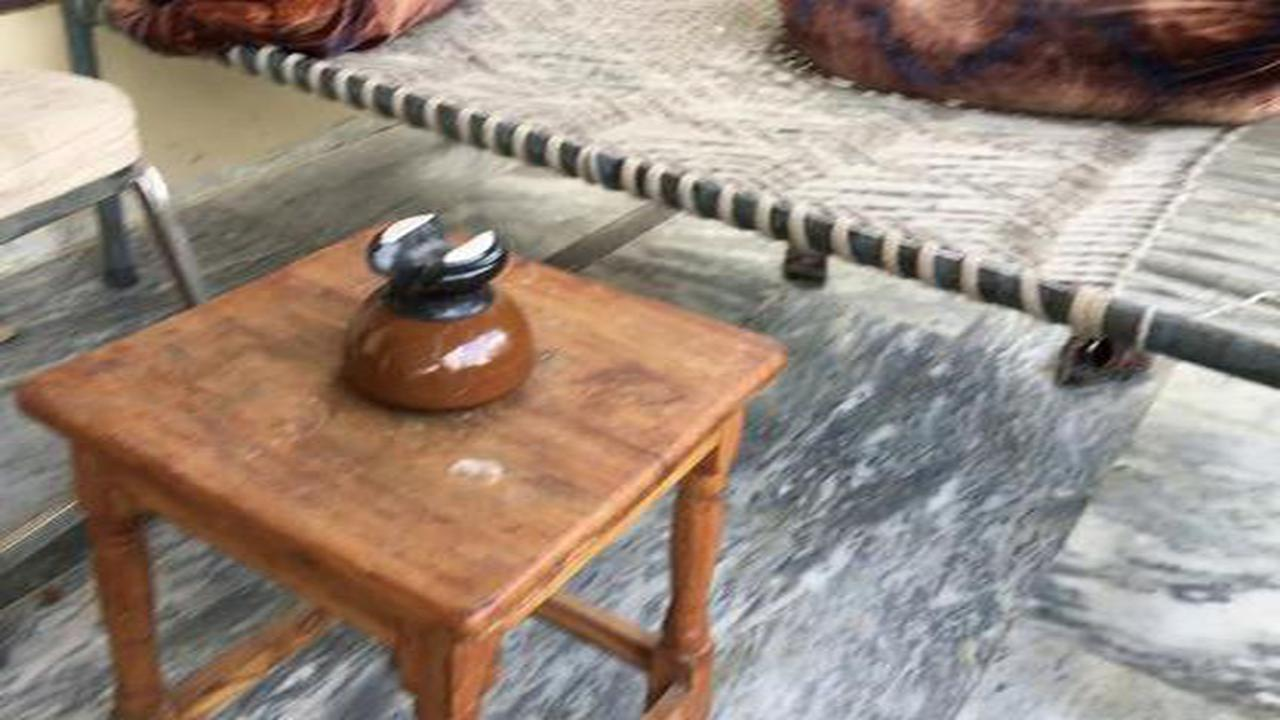insulator_pin: (320, 195, 554, 428)
